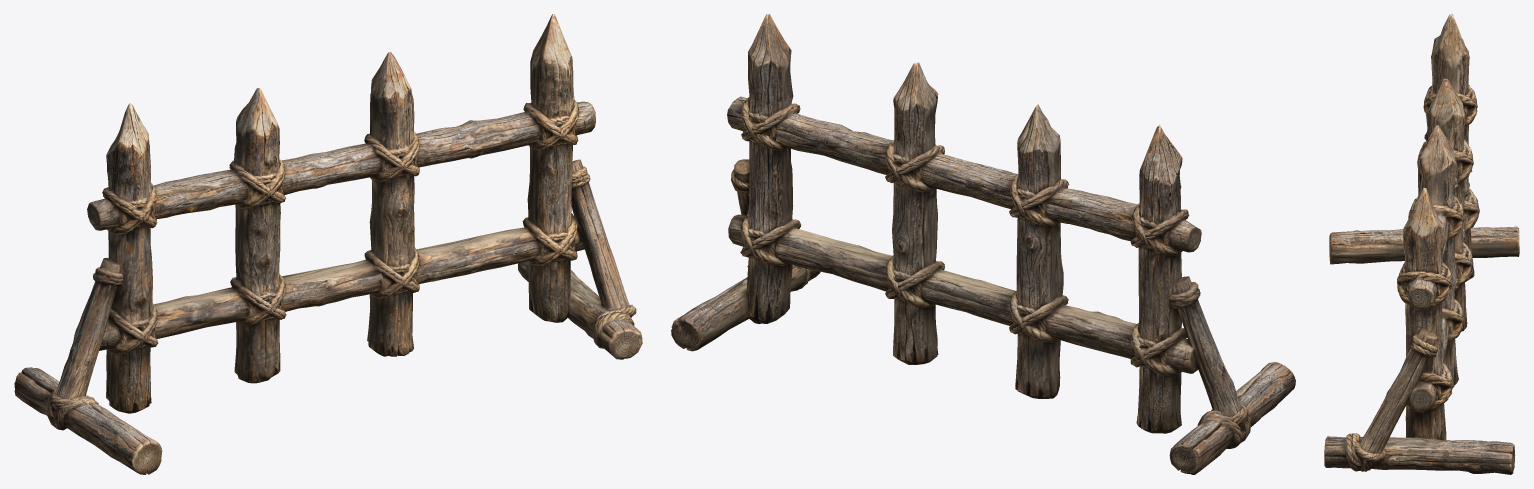
Rendered from TimberFence.fbx.
3 renders of one model, left to right at view 1: azimuth 30°, elevation 25°; view 2: azimuth 150°, elevation 25°; view 3: azimuth 270°, elevation 25°, orthographic. The views are drawn at different scales.
Parts seen in each view (by area): view 1: TimberFence_LOD0; view 2: TimberFence_LOD0; view 3: TimberFence_LOD0.
Boxes of the visible parts, x1,y1,x2,y2 form: TimberFence_LOD0: (14,14,642,474); TimberFence_LOD0: (671,14,1295,474); TimberFence_LOD0: (1324,14,1519,474).
Size of what is drawn, in the model's own units: 300 by 164 by 107.
